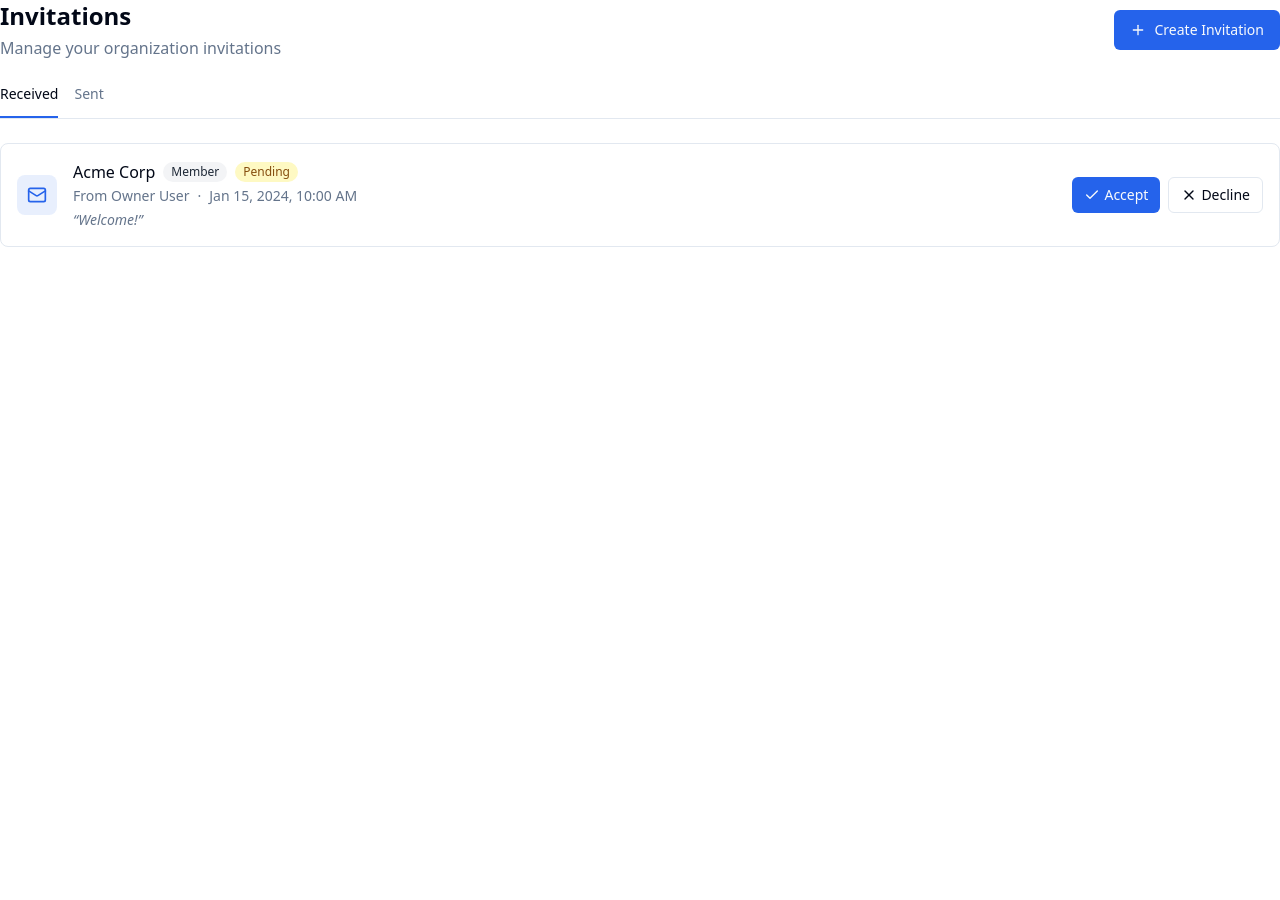
Test case: InvitationsPage › should show revoke confirmation dialog when Revoke is clicked
Click the tab "Sent".
click(89, 101)  # box x1=74 y1=84 x2=104 y2=118
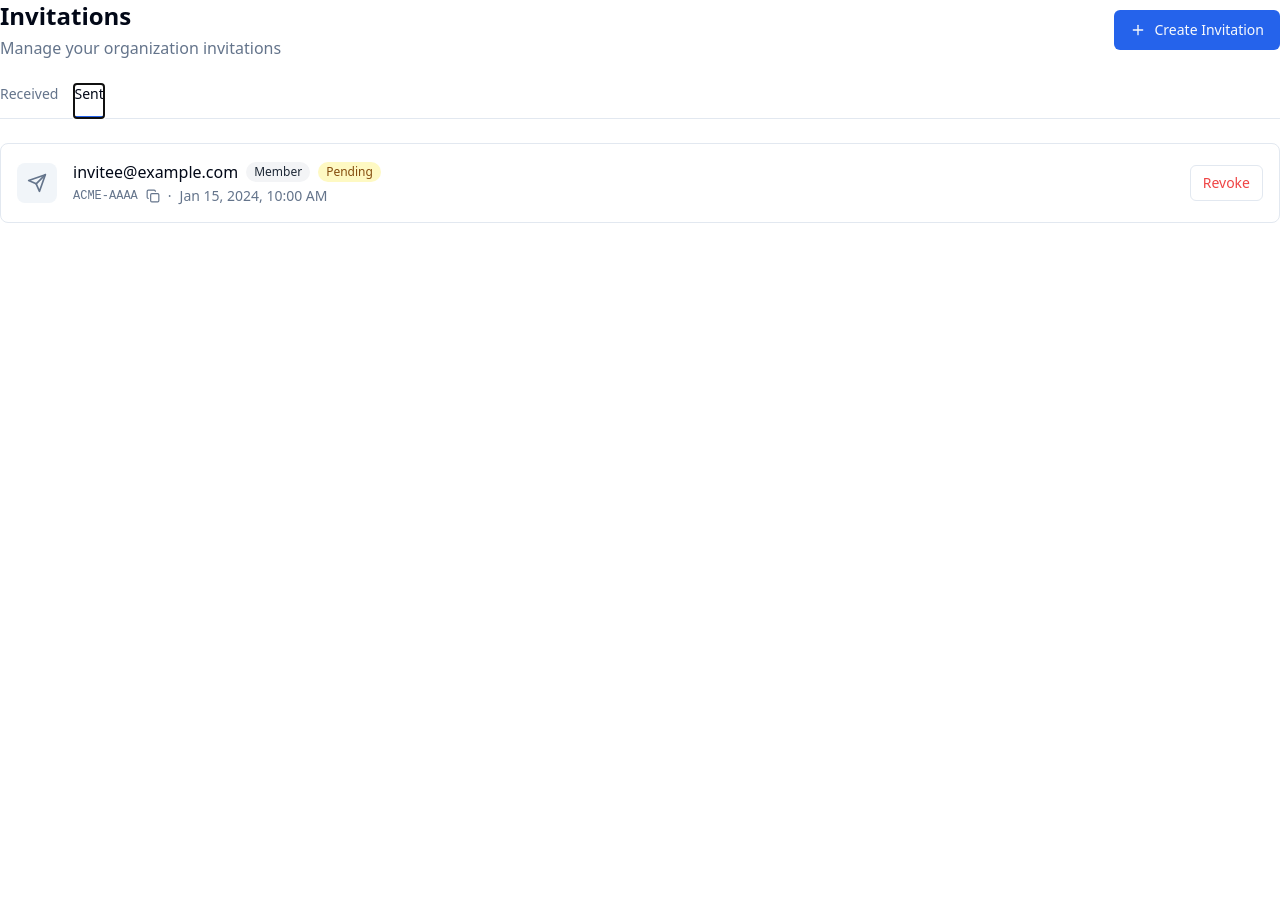
Click the button "Revoke".
click(1226, 183)  # box x1=1190 y1=165 x2=1263 y2=201
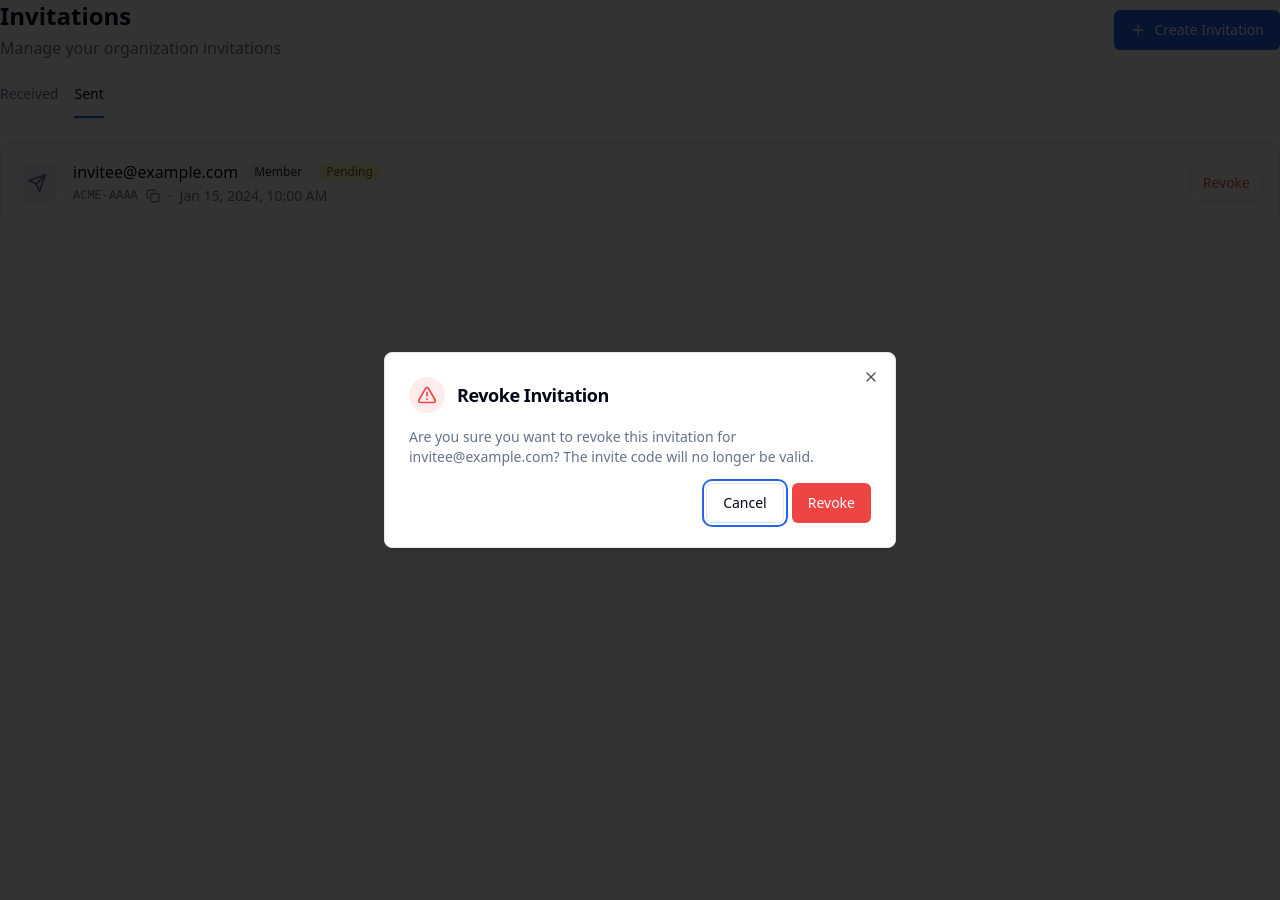
Check: the heading "Revoke Invitation" is shown, box x1=457 y1=386 x2=609 y2=404
Check: the text "Are you sure you want to revoke" is shown, box x1=409 y1=427 x2=814 y2=466
